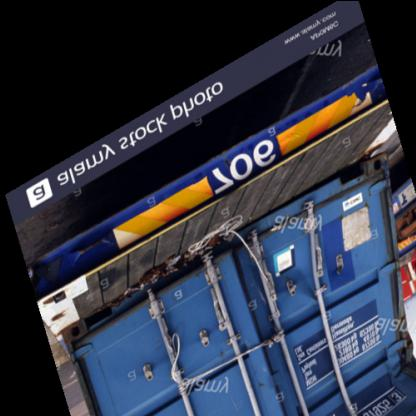Damage: (276, 198, 416, 408)
